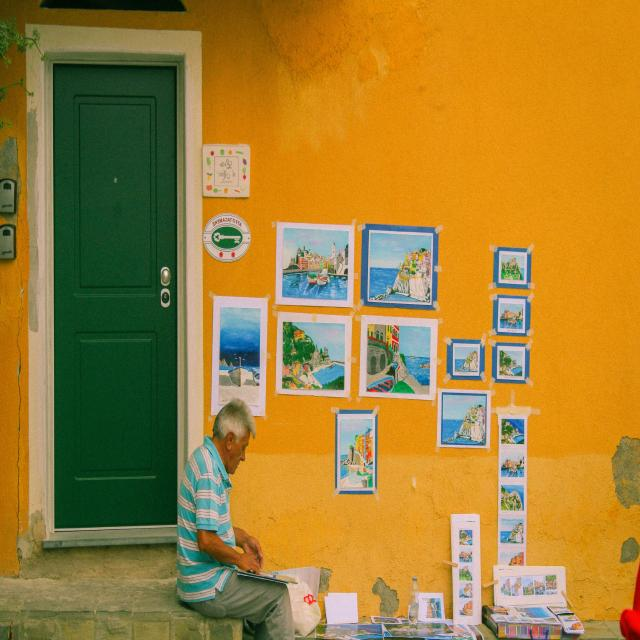adult: (174, 399, 298, 640)
